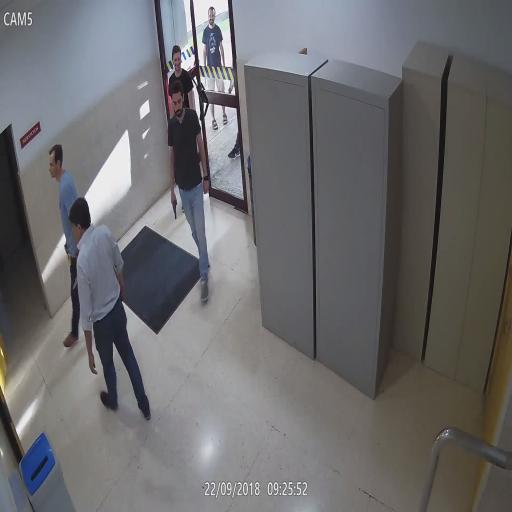Handgun: (169, 190, 178, 222), (226, 80, 234, 96), (62, 239, 69, 253), (203, 76, 207, 88)
